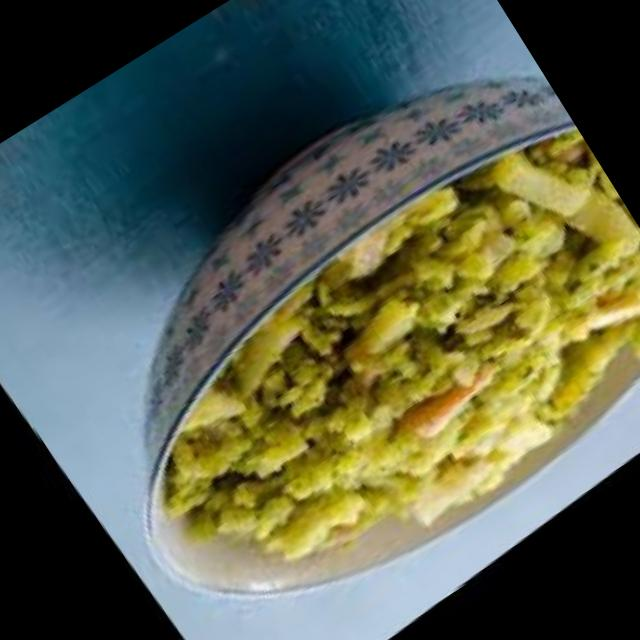poha: (78, 98, 640, 640)
